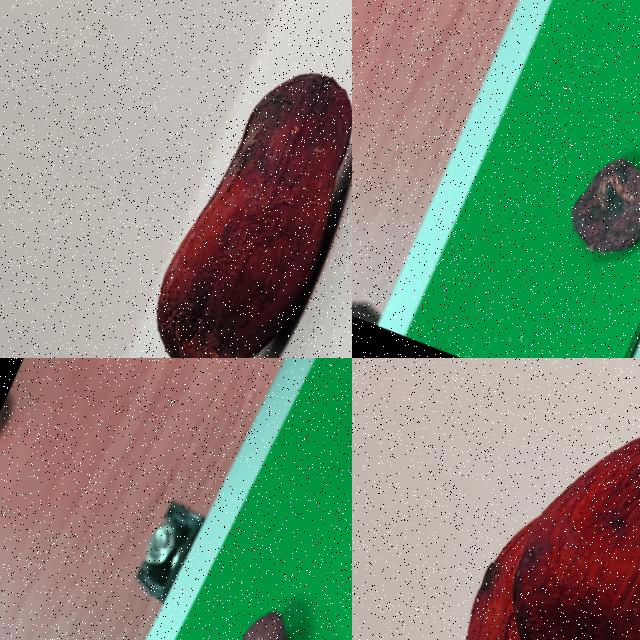Agglomerated_cocoabeans: (352, 358, 639, 639)
Fine_cocoabeans: (54, 0, 351, 357), (112, 515, 351, 639)
Flat_cocoabeans: (503, 64, 639, 357)
